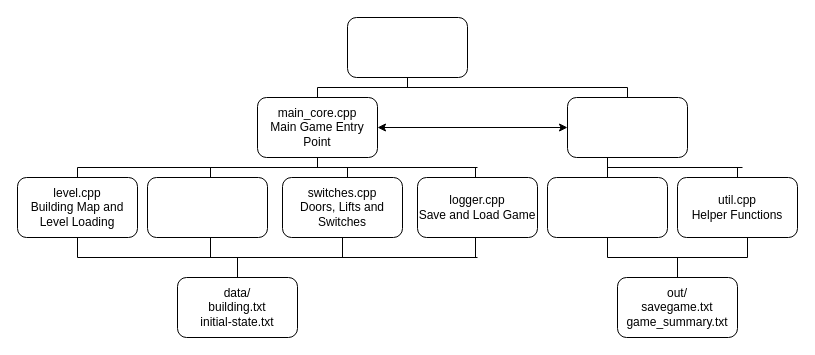
Some shapes in this 815 by 355 pixel diagram are drawn without their labels. The box of each missing label's shape, as (x1, y1, x2, y2) in pixels:
physics.cpp Movement and Resource Management: (146, 176, 268, 238)
simulator.cpp Game Simulation and Commands: (566, 96, 688, 158)
THE LAST TRAIN GAME Project Architecture: (346, 16, 468, 78)
viewer_iface_core.cpp Console Display: (546, 176, 668, 238)
